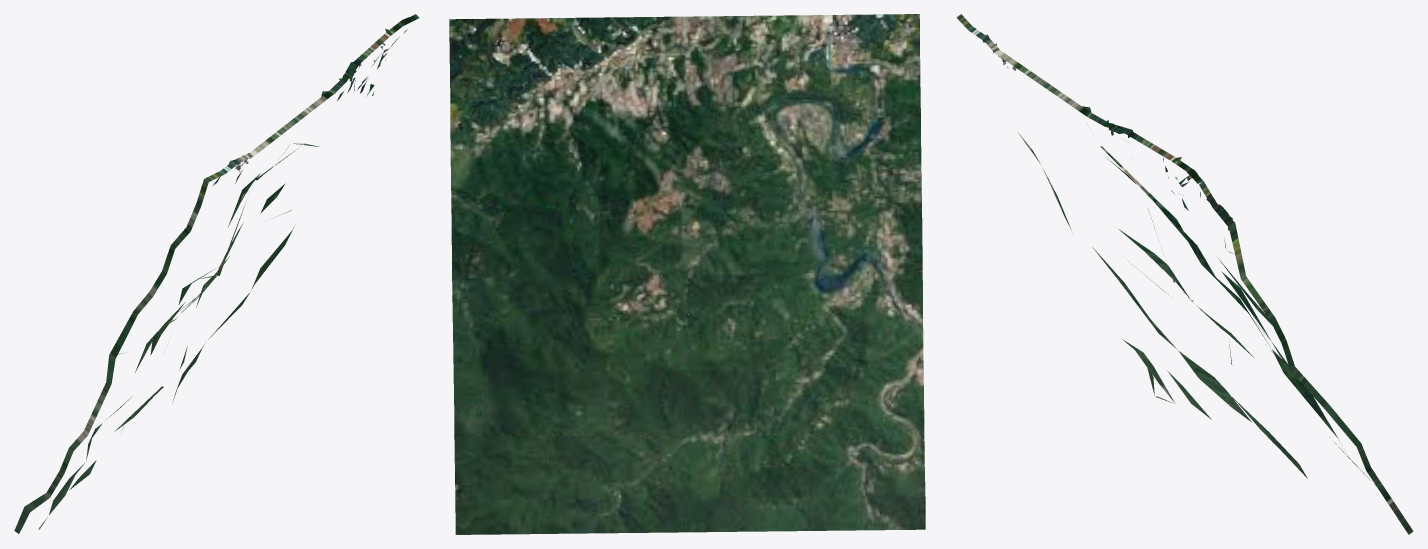
3 views of the same model, side by side, from view 1: azimuth 30°, elevation 25°; view 2: azimuth 150°, elevation 25°; view 3: azimuth 270°, elevation 25° (orthographic). The views are drawn at different scales.
Size of the model in its own units: 9915 by 9005 by 8777.
Materials: 1 (1 with a texture image).
